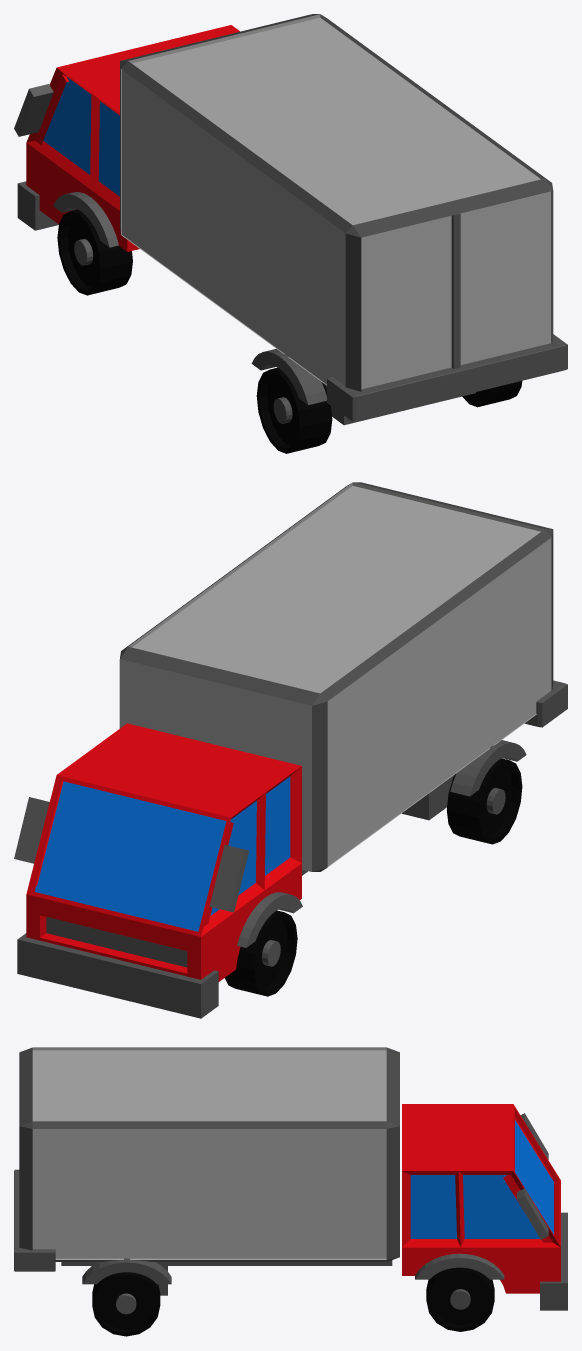
Rendered from TruckUpdated.fbx.
3 renders of one model, top to bottom at view 1: azimuth 30°, elevation 25°; view 2: azimuth 150°, elevation 25°; view 3: azimuth 270°, elevation 25°, orthographic. The views are drawn at different scales.
Visible parts, largest first — view 1: Cube.004, Cube, Cube.006, Cylinder.007, Cylinder.005, Cylinder.004, Cube.005, Cylinder.001, Cube.003, Cube.001, Cylinder.006; view 2: Cube.004, Cube, Cube.001, Cylinder.007, Cylinder.005, Cube.003, Cylinder.004, Cylinder.001, Cube.002, Cube.006, Cube.008; view 3: Cube.004, Cube, Cylinder.002, Cylinder.006, Cube.006, Cylinder.003, Cylinder, Cube.001, Cube.007, Cube.002.
Part boxes in pixels (box(x1,y1,x2,y2)): Cube.004: box(120, 14, 553, 391); Cube: box(26, 25, 239, 251); Cube.006: box(327, 334, 567, 421); Cylinder.007: box(256, 367, 332, 453); Cylinder.005: box(57, 209, 132, 295); Cylinder.004: box(251, 349, 326, 404); Cube.005: box(451, 213, 460, 368); Cylinder.001: box(53, 192, 118, 247); Cube.003: box(14, 84, 53, 136); Cube.001: box(17, 181, 58, 230); Cylinder.006: box(462, 381, 522, 407); Cube.004: box(119, 482, 553, 871); Cube: box(26, 723, 301, 981); Cube.001: box(17, 933, 218, 1018); Cylinder.007: box(446, 758, 522, 844); Cylinder.005: box(225, 910, 297, 996); Cube.003: box(209, 845, 248, 912); Cylinder.004: box(450, 740, 526, 796); Cylinder.001: box(237, 892, 302, 947); Cube.002: box(14, 797, 49, 863); Cube.006: box(524, 680, 567, 727); Cube.008: box(402, 774, 454, 820); Cube.004: box(19, 1047, 399, 1261); Cube: box(402, 1104, 560, 1293); Cylinder.002: box(426, 1267, 494, 1331); Cylinder.006: box(92, 1272, 160, 1336); Cube.006: box(14, 1169, 55, 1271); Cylinder.003: box(82, 1258, 171, 1284); Cylinder: box(415, 1253, 504, 1279); Cube.001: box(540, 1212, 567, 1310); Cube.007: box(61, 1260, 392, 1265); Cube.002: box(517, 1188, 548, 1239).
Size of the model in its own units: 256 by 290 by 697.
